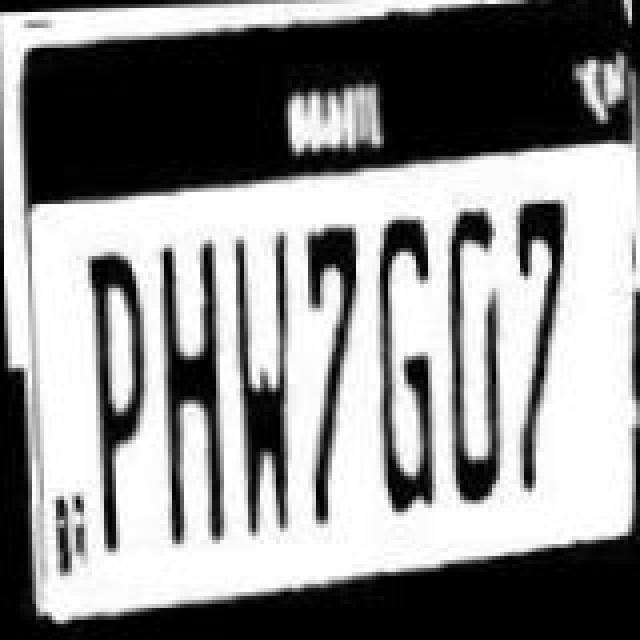7: (496, 192, 588, 496), (292, 214, 384, 510)
D: (430, 198, 526, 506)
G: (362, 214, 450, 514)
H: (148, 246, 224, 542)
P: (78, 252, 158, 548)
W: (228, 224, 312, 520)
